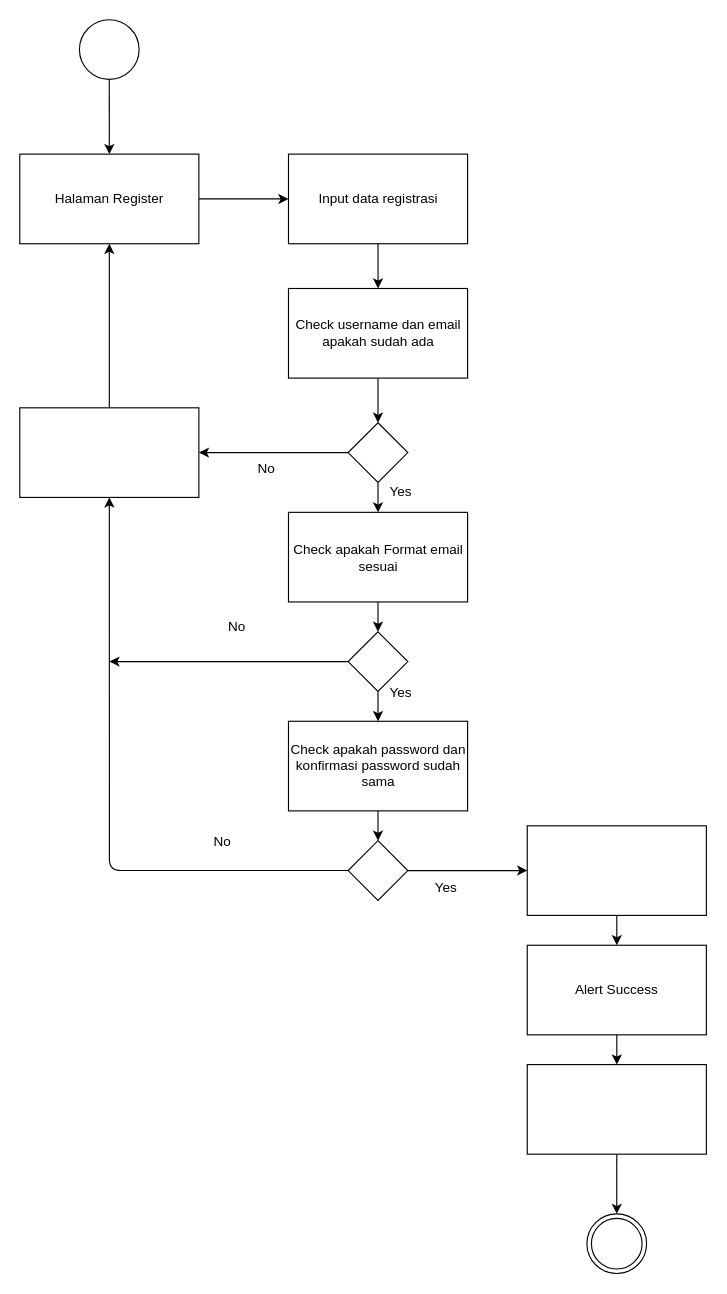
Some shapes in this 727 by 1294 pixel diagram are drawn without their labels. The box of each missing label's shape, as (x1, y1, x2, y2) in pixels:
Alert Error: (19, 407, 199, 497)
Halaman Utama: (526, 1063, 706, 1154)
Login otomatis: (526, 825, 706, 915)
